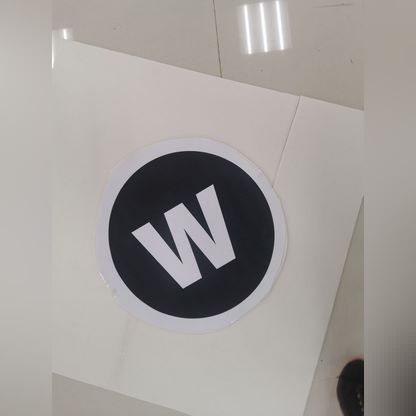W: (126, 178, 244, 292)
